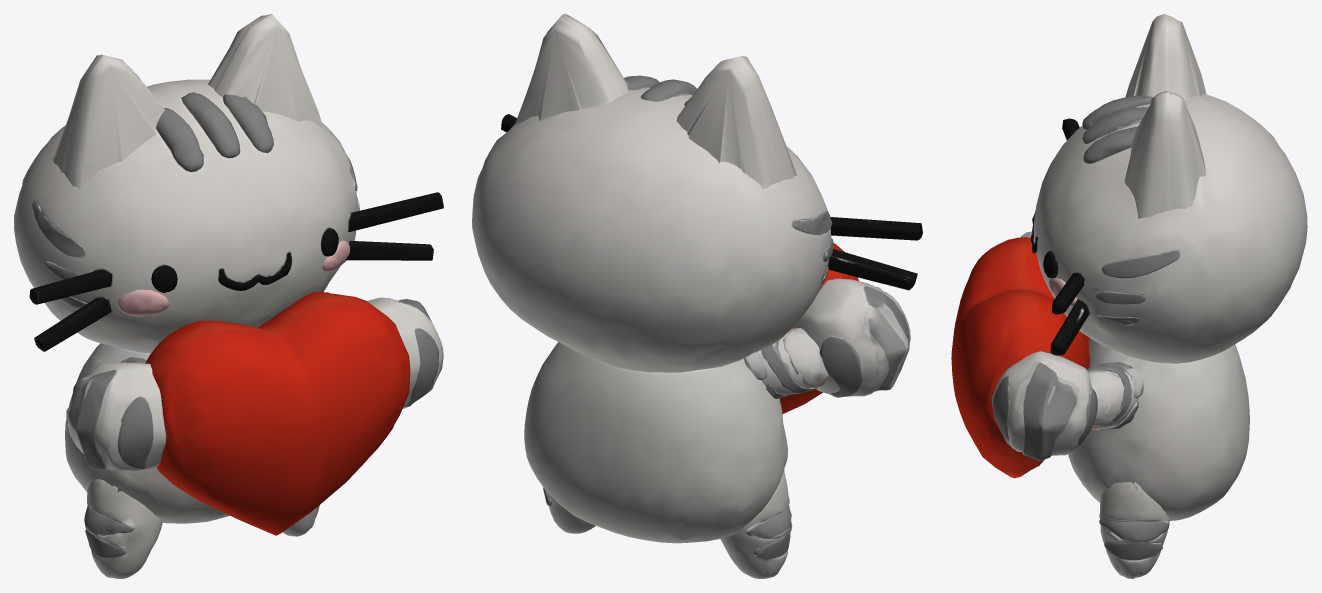
The model's file is gatito.glb.
3 views of the same model, side by side, from view 1: azimuth 30°, elevation 25°; view 2: azimuth 150°, elevation 25°; view 3: azimuth 270°, elevation 25° (orthographic). The views are drawn at different scales.
Size of the model in its own units: 0.7876 by 0.9517 by 0.6377.
Materials: 1 (1 with a texture image).
